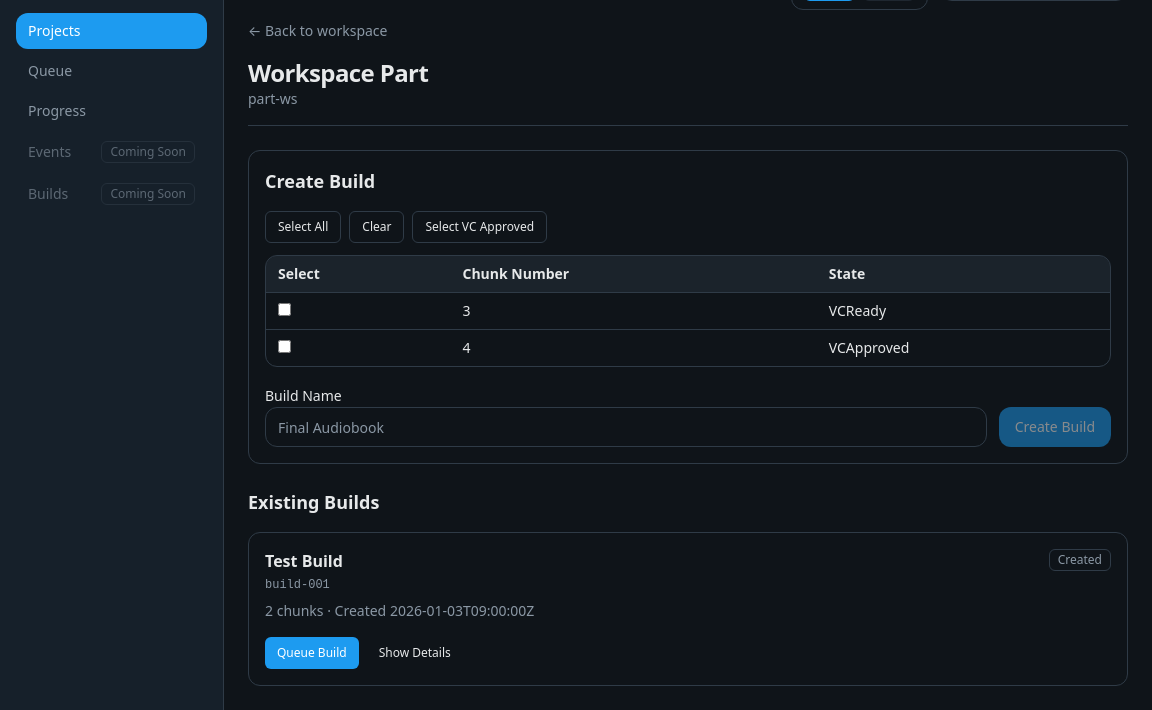
Test: E8.1-E Build Manager › 11. queue build
(page scrolled)
Click the button with test id "queue-build-build-001": (312, 653) x1=265 y1=637 x2=359 y2=669
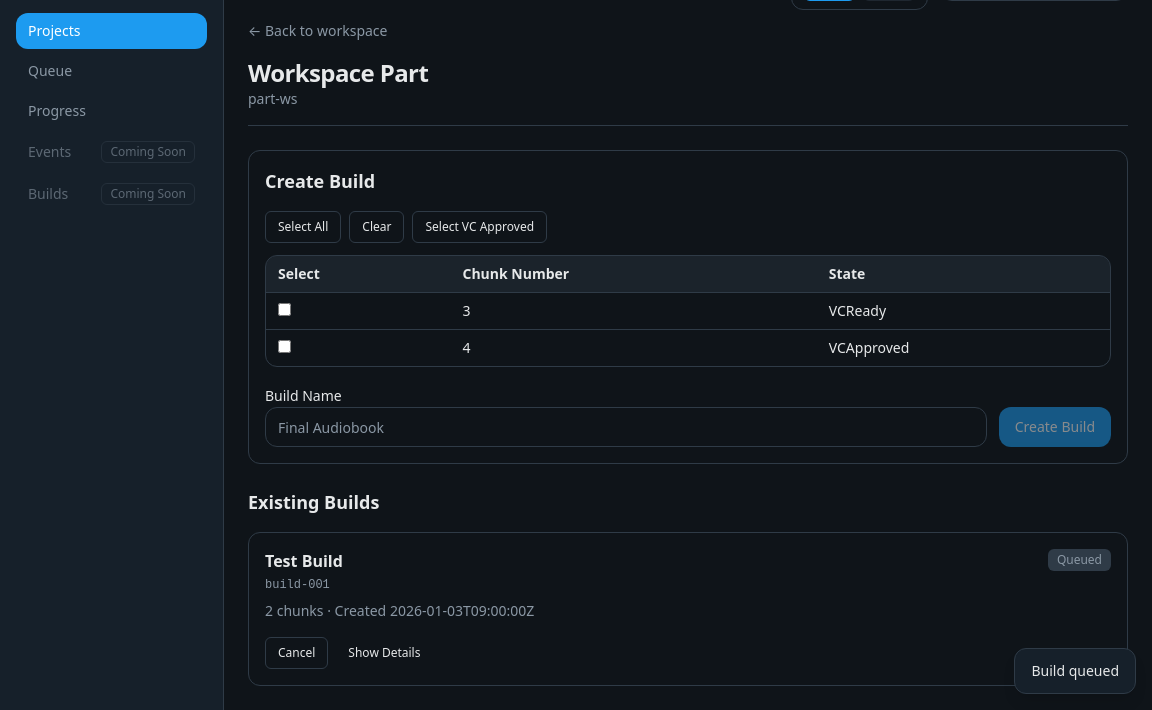
Now the text "Build queued" is shown, box x1=1032 y1=661 x2=1119 y2=681
